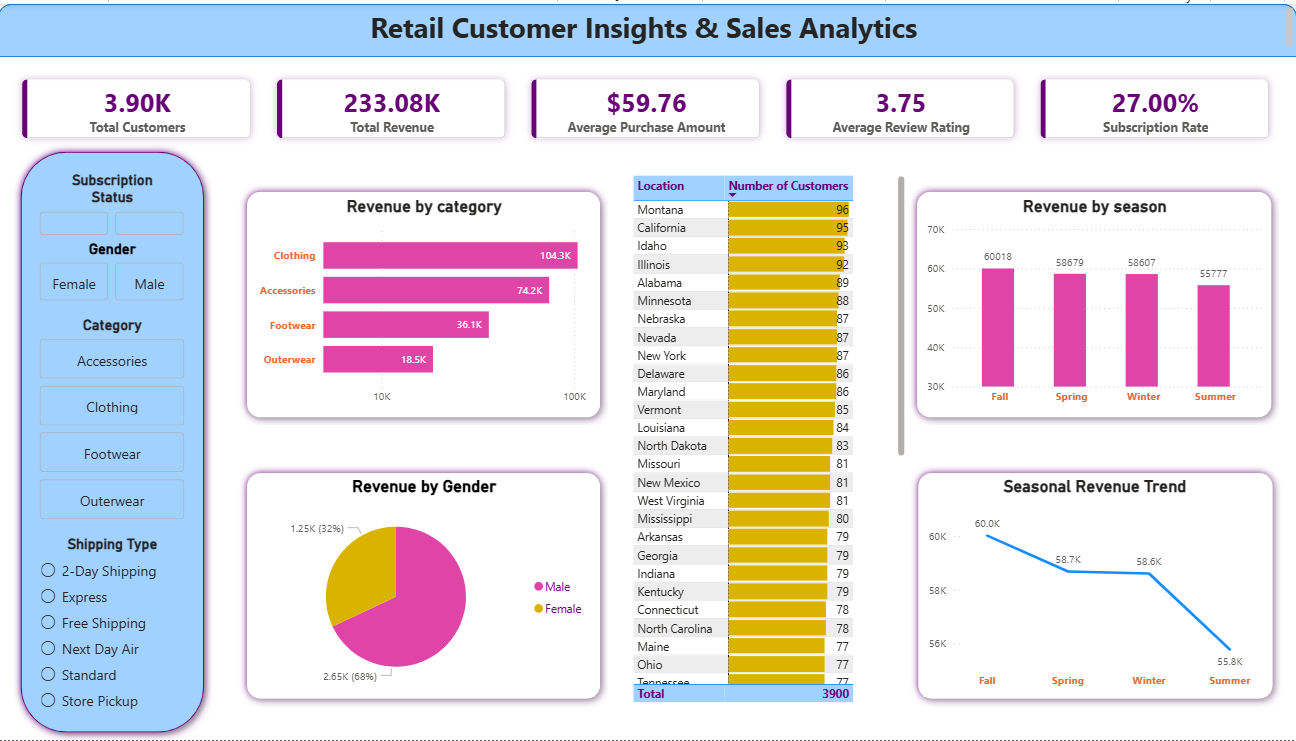

The dashboard page shown, as its layout file describes it:
{"tool":"powerbi","page":{"name":"Page 1","canvas":[1500,850],"ordinal":0},"visuals":[{"type":"cardVisual","fields":{"Data":["public customer.Total Customers","public customer.Total Revenue","public customer.Average Purchase Amount","public customer.Average Review Rating","public customer.Subscription Rate"]},"box":[0,59.8,1498.8,124.1],"z":0},{"type":"shape","box":[0,0,1500.3,61.3],"z":1000},{"type":"textbox","box":[0,0,1499.9,60.6],"z":2000},{"type":"shape","box":[278.6,207.9,425.9,278.6],"z":3000},{"type":"clusteredBarChart","title":"Revenue by category","fields":{"Category":["public customer.category"],"Y":["public customer.Total Revenue"]},"box":[295.9,222.3,392.7,249.7],"z":4000},{"type":"shape","box":[278.6,532.7,425.9,278.6],"z":5000},{"type":"shape","box":[1052.4,207.9,427.3,278.6],"z":6000},{"type":"shape","box":[1053.8,532.7,427.3,278.6],"z":7000},{"type":"clusteredColumnChart","title":"Revenue by season","fields":{"Category":["public customer.season"],"Y":["Sum(public customer.purchase_amount)"]},"box":[1068.3,222.3,397,249.7],"z":8000},{"type":"pieChart","title":"Revenue by Gender","fields":{"Category":["public customer.gender"],"Y":["Count(public customer.customer_id)"]},"box":[295.9,545.7,392.7,254.1],"z":9000},{"type":"lineChart","title":"Seasonal Revenue Trend","fields":{"Category":["public customer.season"],"Y2":["Sum(public customer.purchase_amount)"]},"box":[1068.3,545.7,397,254.1],"z":10000},{"type":"tableEx","fields":{"Values":["public customer.location","Count(public customer.customer_id)"]},"box":[727.6,193.4,324.8,617.9],"z":11000},{"type":"shape","box":[17.3,161.7,229.5,688.6],"z":12000},{"type":"advancedSlicerVisual","fields":{"Values":["public customer.subscription_status"]},"box":[43.3,193.4,177.6,79.4],"z":13000},{"type":"advancedSlicerVisual","fields":{"Values":["public customer.category"]},"box":[43.3,360.9,177.6,241.1],"z":14000},{"type":"advancedSlicerVisual","fields":{"Values":["public customer.gender"]},"box":[43.3,272.8,177.6,75.1],"z":15000},{"type":"listSlicer","fields":{"Values":["public customer.shipping_type"]},"box":[43.3,613.5,177.6,210.8],"z":16000}]}

Visuals, with their boxes in screenshot pixels (x1, y1, x2, y2), scaled from the page's 1500x850 canvas onto the 1296x741 screenshot:
cardVisual - public customer.Total Customers x public customer.Total Revenue: 0, 52, 1295, 160
shape: 0, 0, 1295, 53
textbox: 0, 0, 1295, 53
shape: 241, 181, 609, 424
"Revenue by category" clusteredBarChart: 256, 194, 595, 411
shape: 241, 464, 609, 707
shape: 909, 181, 1278, 424
shape: 910, 464, 1280, 707
"Revenue by season" clusteredColumnChart: 923, 194, 1266, 411
"Revenue by Gender" pieChart: 256, 476, 595, 697
"Seasonal Revenue Trend" lineChart: 923, 476, 1266, 697
tableEx - public customer.location x Count(public customer.customer_id): 629, 169, 909, 707
shape: 15, 141, 213, 740
advancedSlicerVisual - public customer.subscription_status: 37, 169, 191, 238
advancedSlicerVisual - public customer.category: 37, 315, 191, 525
advancedSlicerVisual - public customer.gender: 37, 238, 191, 303
listSlicer - public customer.shipping_type: 37, 535, 191, 719
